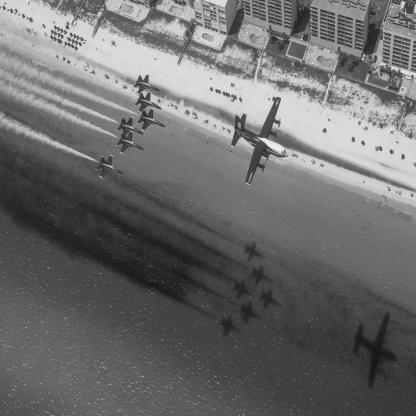C130: (232, 97, 290, 187)
F18: (96, 155, 124, 181), (117, 131, 145, 156), (138, 109, 167, 133), (117, 116, 145, 139), (135, 92, 163, 115), (134, 74, 161, 96)
